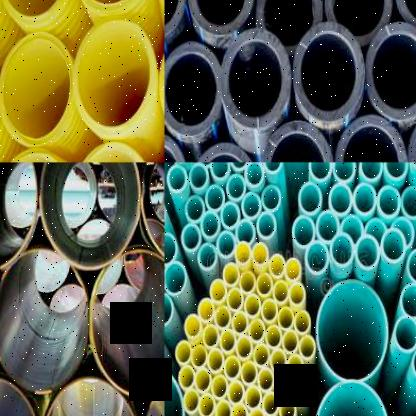pipe: (0, 247, 89, 396), (88, 248, 165, 399), (40, 163, 141, 270), (73, 18, 156, 136), (0, 30, 74, 146), (317, 280, 389, 382), (221, 29, 292, 130), (293, 21, 364, 121), (164, 41, 222, 137), (366, 23, 416, 121), (40, 376, 140, 416), (0, 162, 37, 270), (256, 0, 322, 55), (336, 114, 408, 162), (324, 0, 392, 47), (261, 121, 333, 162), (314, 379, 390, 416), (186, 0, 254, 37), (0, 0, 71, 25), (0, 376, 40, 416), (74, 0, 149, 12), (164, 0, 186, 40), (392, 316, 416, 352), (355, 234, 379, 270), (330, 232, 354, 268), (381, 228, 406, 262), (164, 260, 187, 295), (328, 184, 352, 217), (353, 183, 377, 216), (305, 242, 329, 274), (298, 183, 322, 215), (378, 186, 401, 218), (395, 0, 416, 34), (391, 217, 414, 248), (292, 216, 315, 247), (341, 215, 364, 246), (317, 210, 340, 241), (364, 218, 387, 247), (180, 224, 202, 252), (199, 210, 220, 239), (185, 195, 206, 223), (188, 163, 209, 191), (216, 230, 236, 259), (205, 184, 225, 213), (399, 284, 416, 318), (256, 212, 277, 239), (198, 243, 218, 271), (242, 192, 262, 220), (262, 184, 282, 212), (167, 165, 187, 193), (235, 219, 256, 245), (226, 174, 246, 201), (244, 162, 264, 187), (401, 186, 416, 219), (332, 162, 357, 181), (274, 373, 292, 399), (384, 162, 410, 180), (194, 368, 212, 393), (178, 365, 196, 390), (282, 329, 300, 354), (198, 298, 216, 323), (183, 388, 200, 414), (292, 378, 309, 404), (258, 367, 275, 393), (236, 335, 253, 361), (207, 349, 225, 373), (214, 306, 232, 330), (288, 282, 306, 306), (209, 279, 227, 303), (191, 344, 208, 369), (175, 340, 192, 365), (219, 329, 236, 354), (202, 324, 219, 349), (294, 310, 311, 335), (272, 280, 289, 305), (223, 262, 240, 287), (252, 241, 269, 266), (309, 162, 331, 181), (266, 324, 282, 350), (244, 386, 262, 409), (226, 288, 244, 311), (256, 273, 274, 296), (360, 162, 383, 180), (198, 392, 215, 416), (262, 392, 279, 416), (224, 355, 241, 379), (253, 343, 270, 367), (249, 319, 266, 343), (184, 315, 201, 339), (261, 299, 278, 323), (285, 257, 302, 281), (235, 241, 252, 265), (228, 380, 244, 405), (211, 375, 227, 400), (300, 335, 316, 360), (244, 293, 260, 318), (269, 253, 285, 278), (165, 233, 177, 266), (241, 362, 258, 385), (287, 355, 304, 378), (232, 311, 249, 334), (270, 349, 286, 373), (278, 306, 294, 330), (240, 271, 256, 294), (406, 248, 416, 284), (210, 162, 230, 180), (164, 292, 173, 328), (279, 397, 296, 416), (216, 399, 232, 416), (262, 162, 283, 173), (232, 403, 248, 416), (230, 162, 250, 171), (248, 407, 265, 416), (412, 345, 416, 382)
